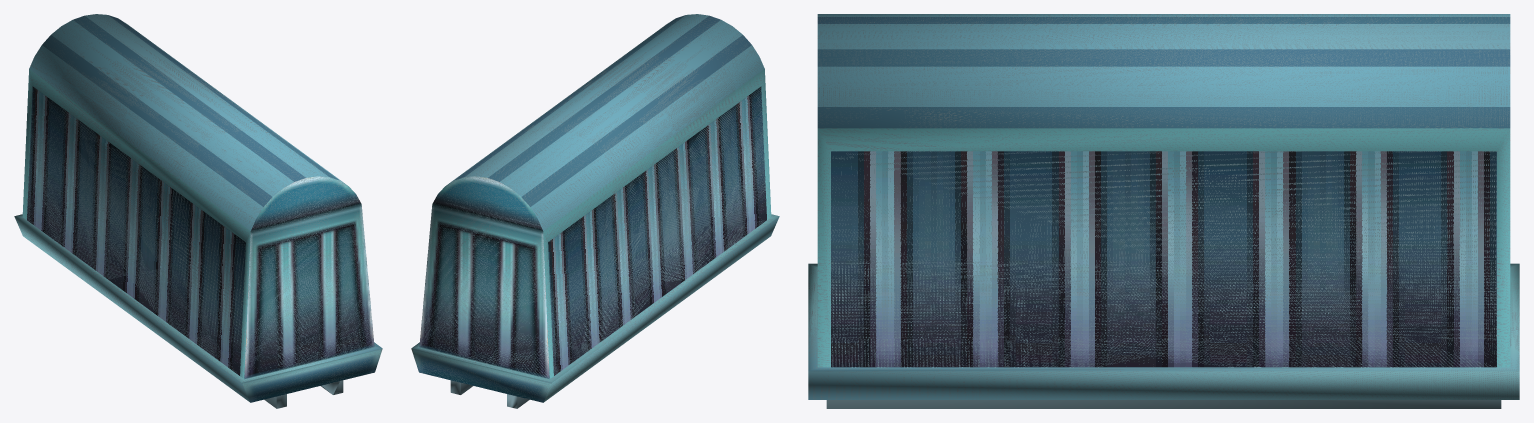
The model's file is sanstitre.fbx.
3 views of the same model, side by side, from view 1: azimuth 30°, elevation 25°; view 2: azimuth 150°, elevation 25°; view 3: azimuth 270°, elevation 25° (orthographic). The views are drawn at different scales.
Parts seen in each view (by area): view 1: node_deaeb300_b4f0_4f70_b559_0cfbda8fc387_mesh0, node_26d2944d_0ec1_4e32_b3af_393502f3d740_mesh0, node_3392fc1b_4b7d_48f1_a8e4_2e6c57043ca5_mesh0, node_3e305224_208b_4cf5_806d_d02d279b6810_mesh0; view 2: node_deaeb300_b4f0_4f70_b559_0cfbda8fc387_mesh0, node_26d2944d_0ec1_4e32_b3af_393502f3d740_mesh0, node_3392fc1b_4b7d_48f1_a8e4_2e6c57043ca5_mesh0, node_3e305224_208b_4cf5_806d_d02d279b6810_mesh0; view 3: node_3392fc1b_4b7d_48f1_a8e4_2e6c57043ca5_mesh0, node_deaeb300_b4f0_4f70_b559_0cfbda8fc387_mesh0, node_3e305224_208b_4cf5_806d_d02d279b6810_mesh0, node_26d2944d_0ec1_4e32_b3af_393502f3d740_mesh0.
Part boxes in pixels (x1,y1,x2,y2): node_deaeb300_b4f0_4f70_b559_0cfbda8fc387_mesh0: [16, 14, 381, 408]; node_26d2944d_0ec1_4e32_b3af_393502f3d740_mesh0: [14, 69, 382, 402]; node_3392fc1b_4b7d_48f1_a8e4_2e6c57043ca5_mesh0: [27, 86, 245, 375]; node_3e305224_208b_4cf5_806d_d02d279b6810_mesh0: [29, 14, 346, 230]; node_deaeb300_b4f0_4f70_b559_0cfbda8fc387_mesh0: [412, 14, 778, 408]; node_26d2944d_0ec1_4e32_b3af_393502f3d740_mesh0: [411, 69, 779, 402]; node_3392fc1b_4b7d_48f1_a8e4_2e6c57043ca5_mesh0: [548, 86, 766, 375]; node_3e305224_208b_4cf5_806d_d02d279b6810_mesh0: [447, 14, 764, 230]; node_3392fc1b_4b7d_48f1_a8e4_2e6c57043ca5_mesh0: [831, 151, 1496, 367]; node_deaeb300_b4f0_4f70_b559_0cfbda8fc387_mesh0: [808, 14, 1519, 408]; node_3e305224_208b_4cf5_806d_d02d279b6810_mesh0: [817, 14, 1510, 128]; node_26d2944d_0ec1_4e32_b3af_393502f3d740_mesh0: [808, 128, 1519, 399].
Bounding box in the file's own units: 5404 × 8310 × 15118.
4 materials, 3 textured.
